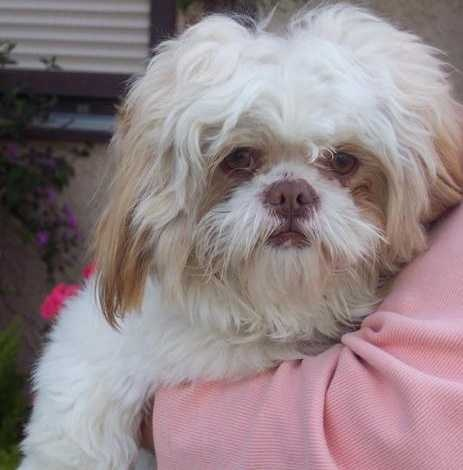Dog: (17, 5, 458, 469)
